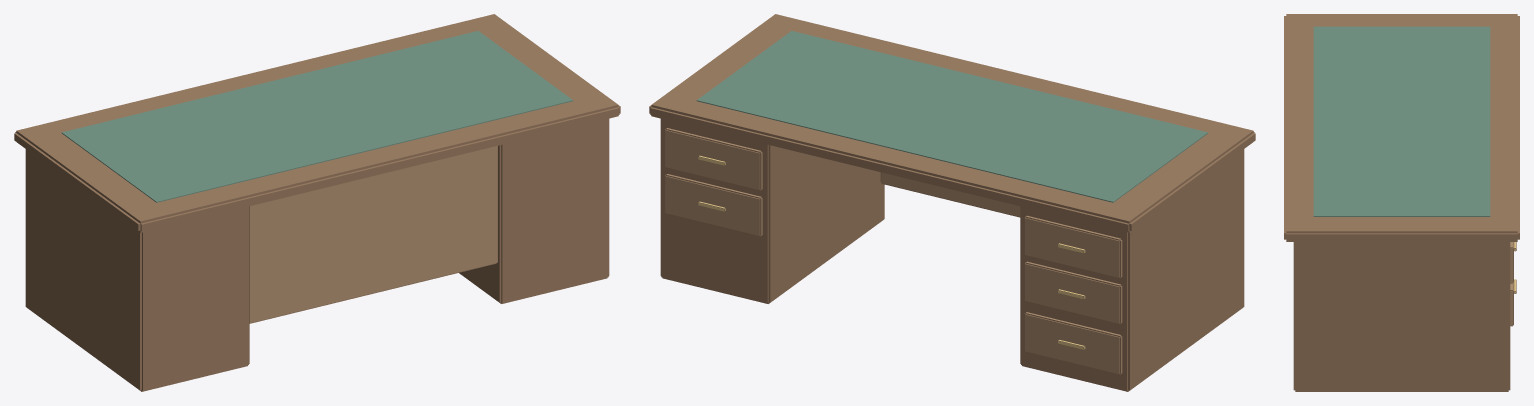
File: escritorio_ejecutivo.glb
The picture shows the model from 3 angles, left to right: view 1: azimuth 30°, elevation 25°; view 2: azimuth 150°, elevation 25°; view 3: azimuth 270°, elevation 25°; orthographic projection. The views are drawn at different scales.
Visible parts, largest first — view 1: escritorio_ejecutivo; view 2: escritorio_ejecutivo; view 3: escritorio_ejecutivo.
Boxes of the visible parts, x1,y1,x2,y2 form: escritorio_ejecutivo: (14, 14, 620, 391); escritorio_ejecutivo: (649, 14, 1255, 391); escritorio_ejecutivo: (1284, 14, 1519, 391).
Bounding box in the file's own units: 2.2 × 0.771 × 1.
